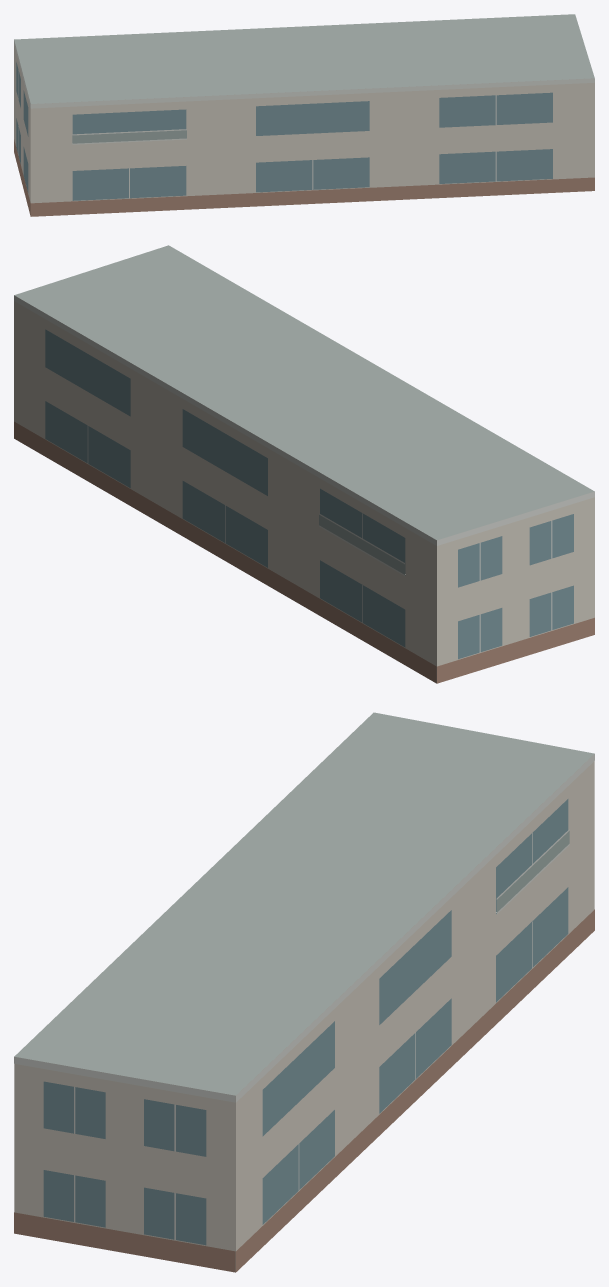
File: survey-upis-32491911.glb
3 views of the same model, one above another, from view 1: azimuth 30°, elevation 25°; view 2: azimuth 150°, elevation 25°; view 3: azimuth 270°, elevation 25° (orthographic). The views are drawn at different scales.
Parts seen in each view (by area): view 1: survey-upis-32491911.tmp; view 2: survey-upis-32491911.tmp; view 3: survey-upis-32491911.tmp.
Part boxes in pixels (box(x1,y1,x2,y2)): survey-upis-32491911.tmp: box(14, 14, 594, 216); survey-upis-32491911.tmp: box(14, 245, 594, 683); survey-upis-32491911.tmp: box(14, 712, 594, 1272).
Size of the model in its own units: 28.37 by 6.1 by 18.16.
